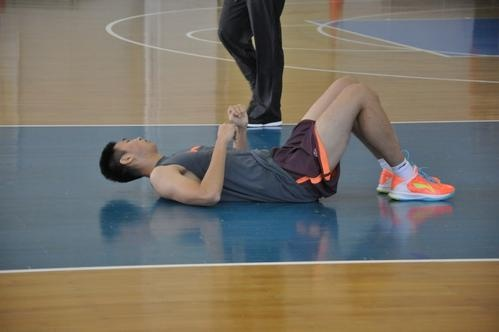falling: (96, 75, 466, 211)
